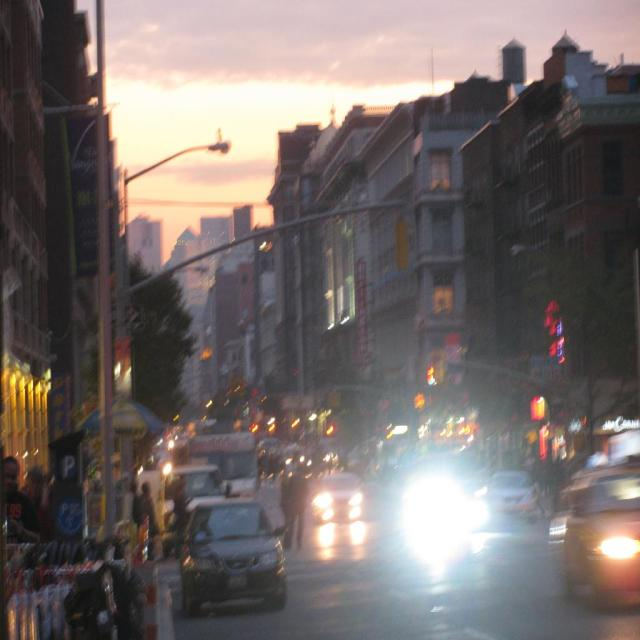car: (166, 493, 280, 615), (314, 469, 355, 530), (480, 474, 539, 516)
